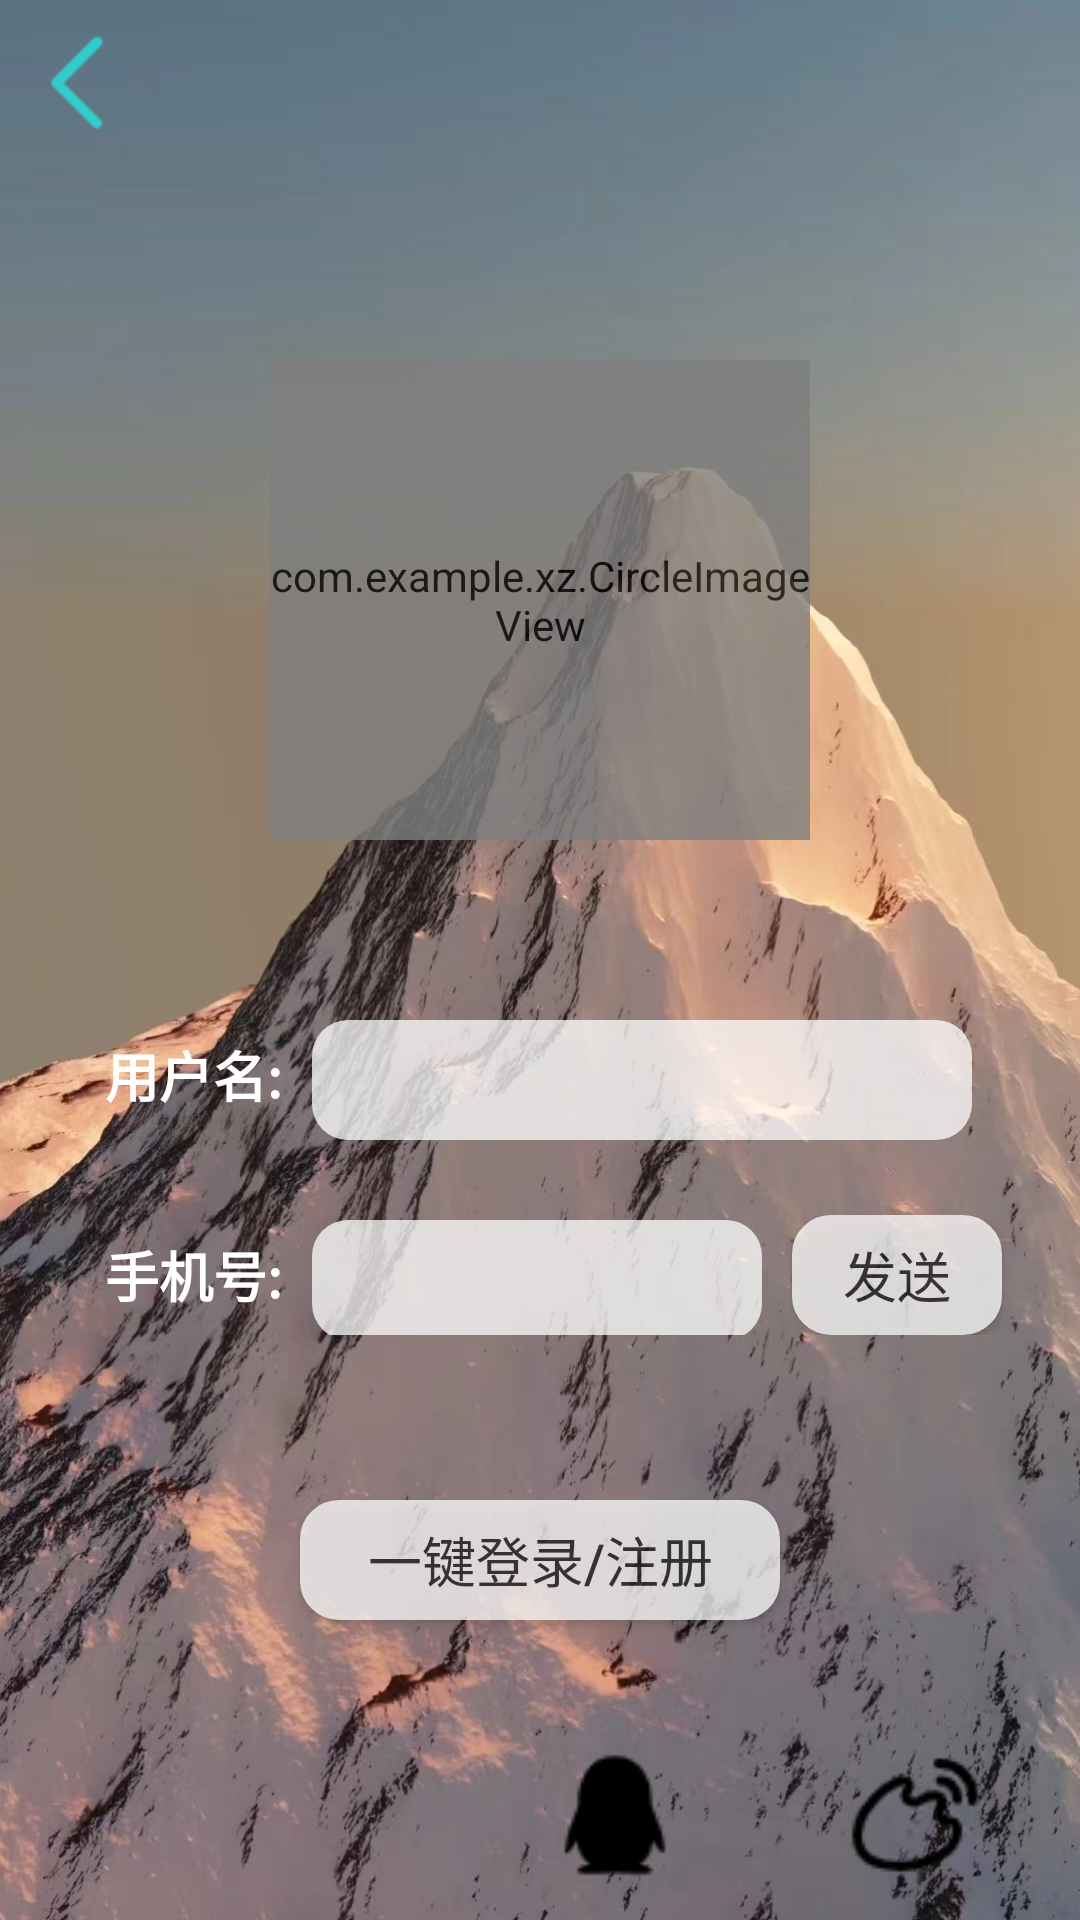

Icons on this 1080 x 1920 Android screen, each with its box as bbox(x1, y1, x2, y2):
back: bbox(51, 36, 103, 129)
